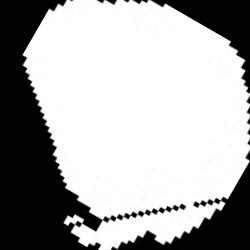spot: (24, 3, 248, 250)
